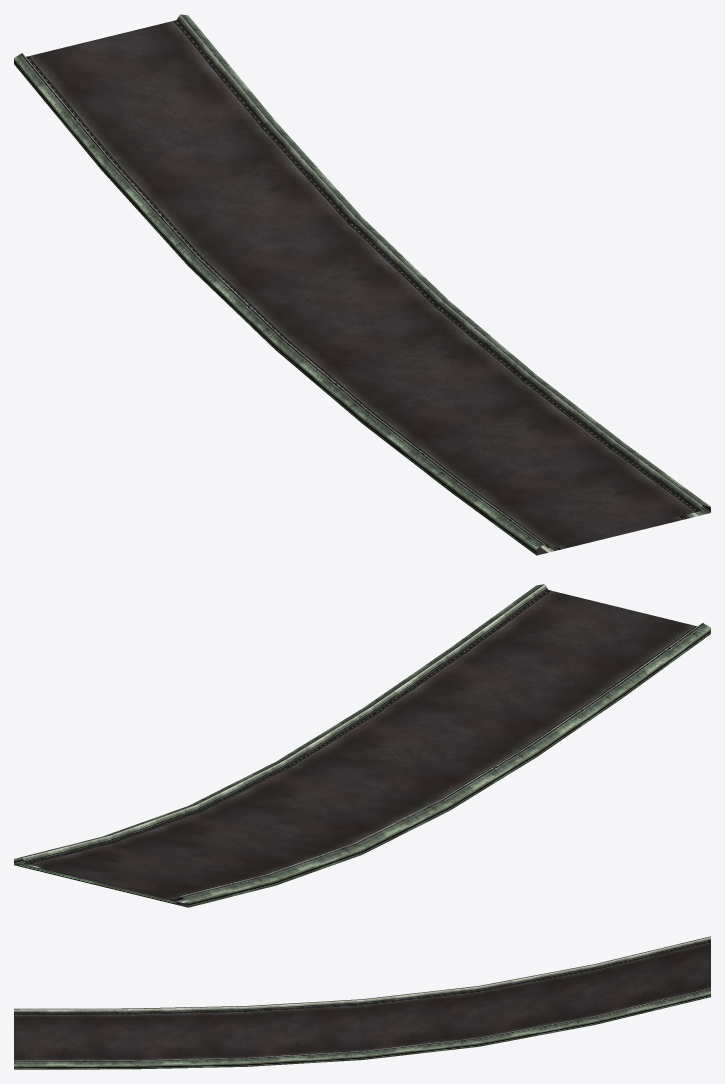
File: Tremplin_Longroad.fbx
3 renders of one model, top to bottom at view 1: azimuth 30°, elevation 25°; view 2: azimuth 150°, elevation 25°; view 3: azimuth 270°, elevation 25°, orthographic. The views are drawn at different scales.
Visible parts, largest first — view 1: Tremplin_road; view 2: Tremplin_road; view 3: Tremplin_road.
Part boxes in pixels (x1,y1,x2,y2): Tremplin_road: (14,14,710,555); Tremplin_road: (14,584,710,907); Tremplin_road: (14,936,710,1069).
Size of what is drawn, in the model's own units: 18.5 by 11.98 by 96.
